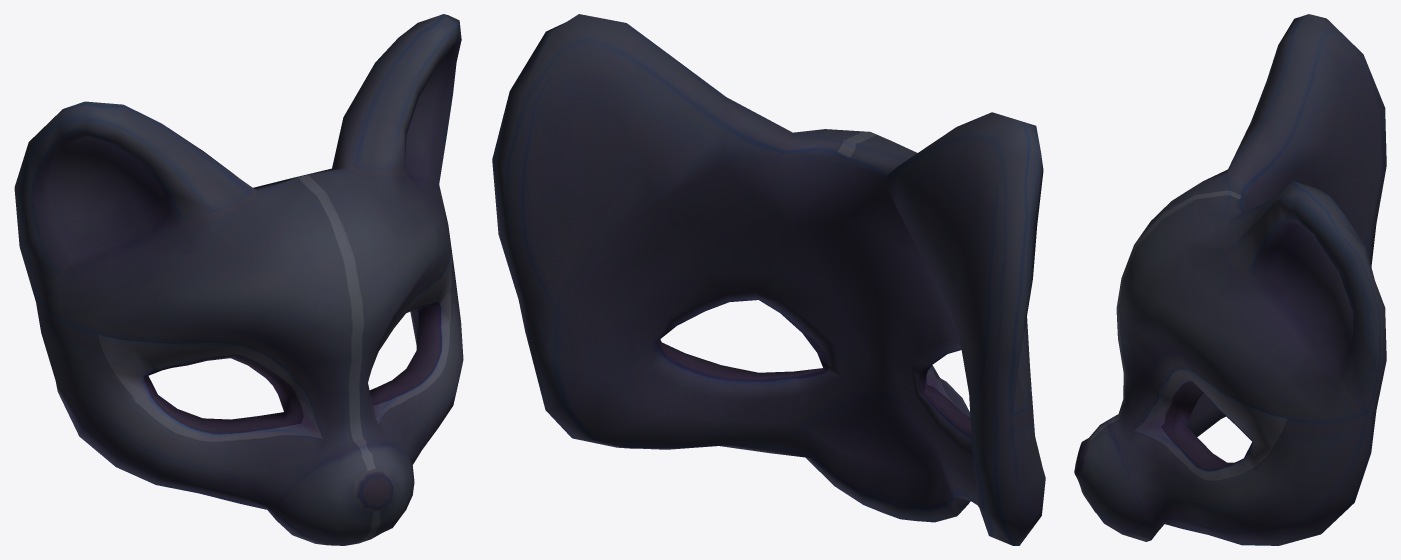
3 views of the same model, side by side, from view 1: azimuth 30°, elevation 25°; view 2: azimuth 150°, elevation 25°; view 3: azimuth 270°, elevation 25° (orthographic). The views are drawn at different scales.
Visible parts, largest first — view 1: Wolf3D_Facewear; view 2: Wolf3D_Facewear; view 3: Wolf3D_Facewear.
Part boxes in pixels (left/top/right/bottom): Wolf3D_Facewear: left=14, top=14, right=463, bottom=545; Wolf3D_Facewear: left=492, top=14, right=1045, bottom=545; Wolf3D_Facewear: left=1074, top=14, right=1386, bottom=545.
Size of the model in its own units: 0.1918 by 0.1807 by 0.1189.
1 material, 1 textured.
